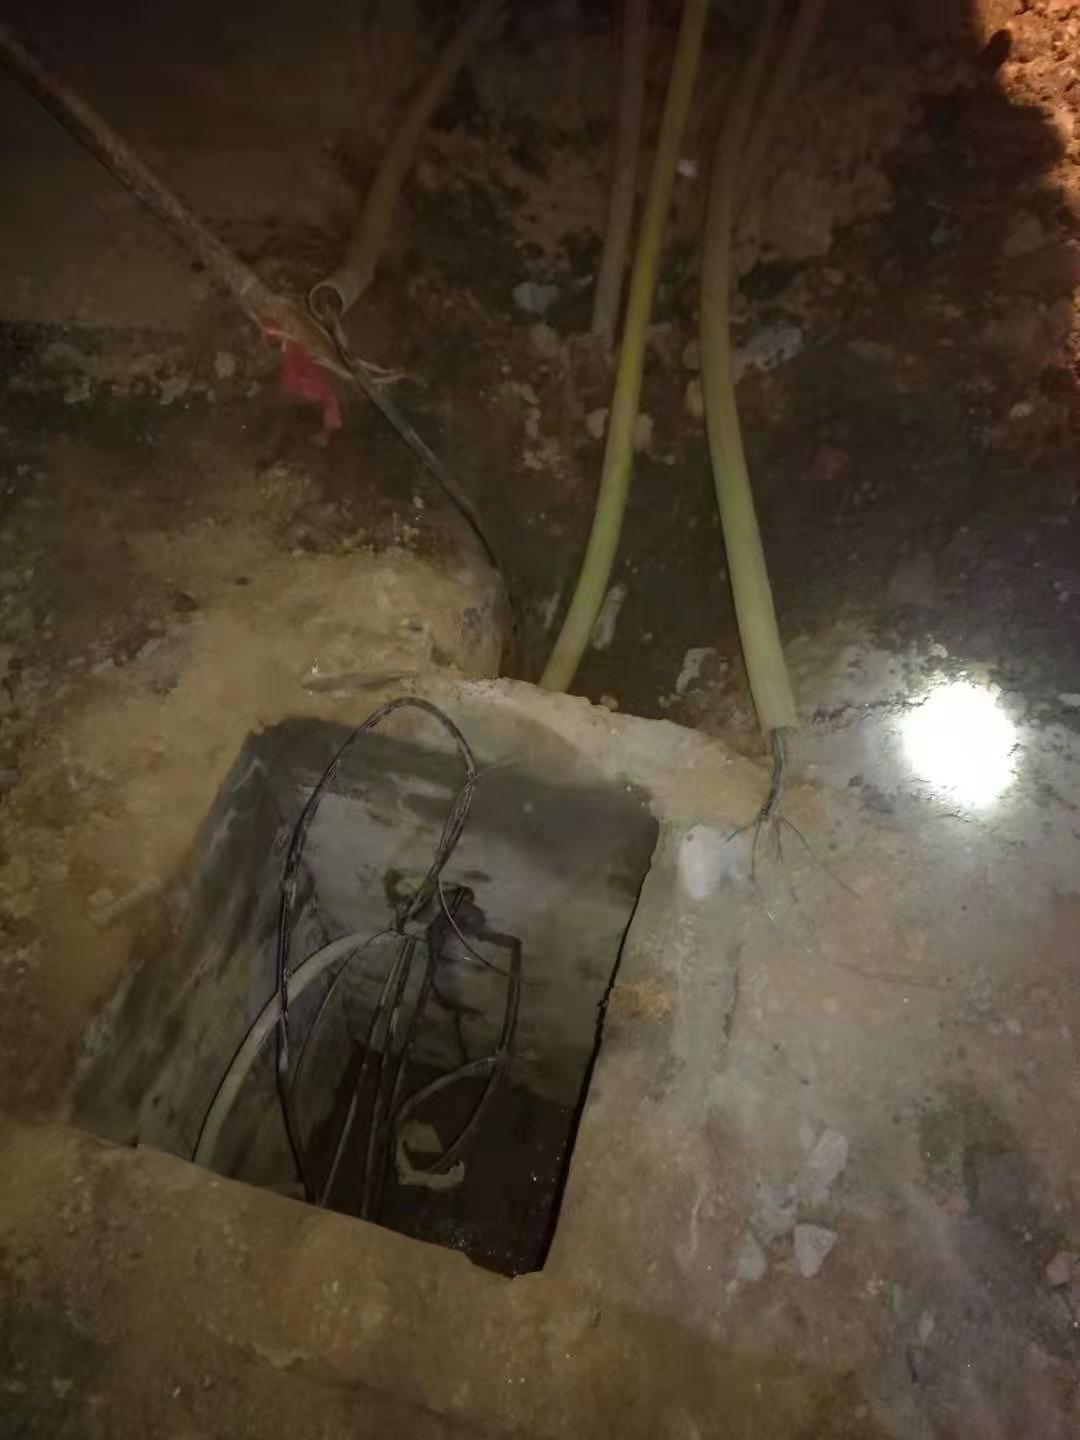wellcover: (61, 698, 716, 1280)
